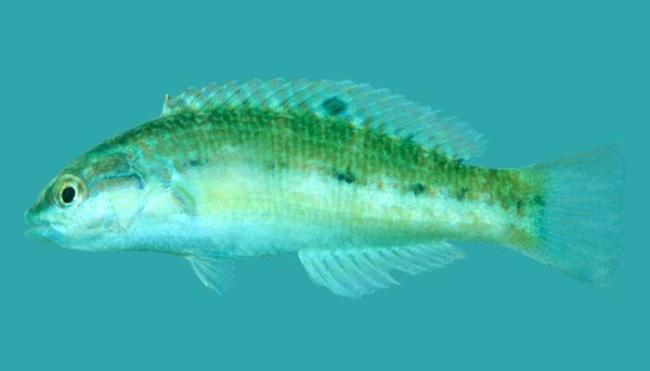fish: (23, 75, 625, 298)
